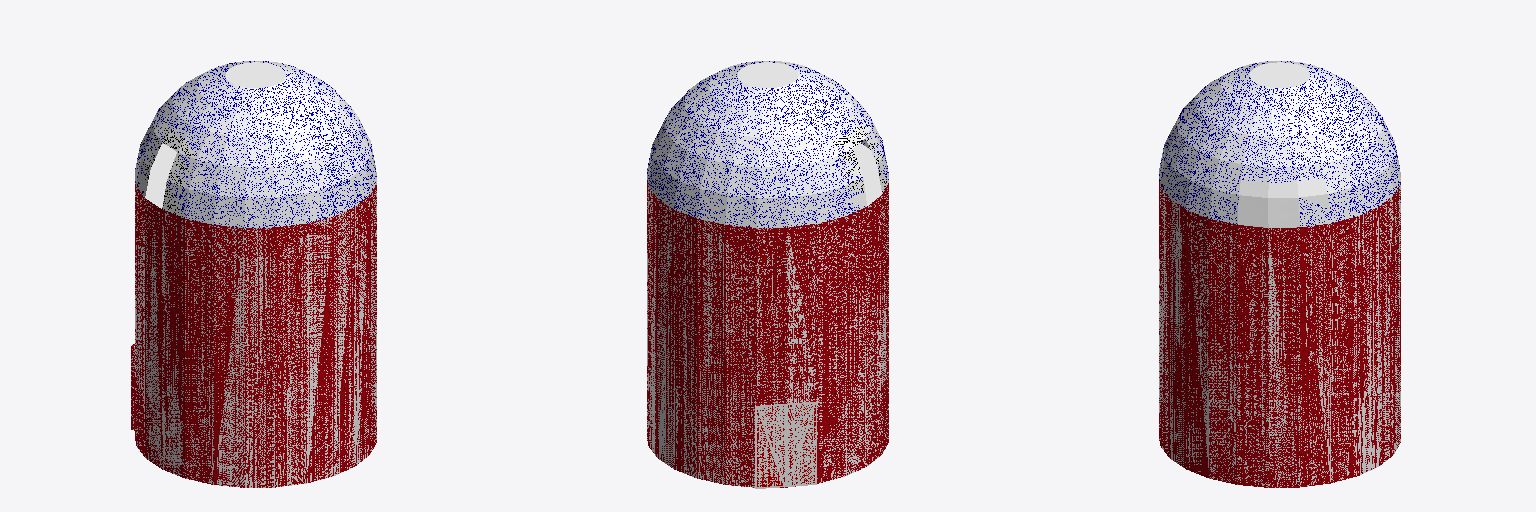
3 renders of one model, left to right at view 1: azimuth 30°, elevation 25°; view 2: azimuth 150°, elevation 25°; view 3: azimuth 270°, elevation 25°, orthographic.
Parts seen in each view (by area): view 1: mesh1_mesh1-geometry; view 2: mesh1_mesh1-geometry; view 3: mesh1_mesh1-geometry.
Boxes of the visible parts, box(x1,y1,x2,y2) form: mesh1_mesh1-geometry: box(131, 61, 376, 487); mesh1_mesh1-geometry: box(647, 61, 888, 488); mesh1_mesh1-geometry: box(1159, 61, 1400, 487).
Bounding box in the file's own units: 0.457 × 0.7511 × 0.457.
Materials: 9 (1 with a texture image).